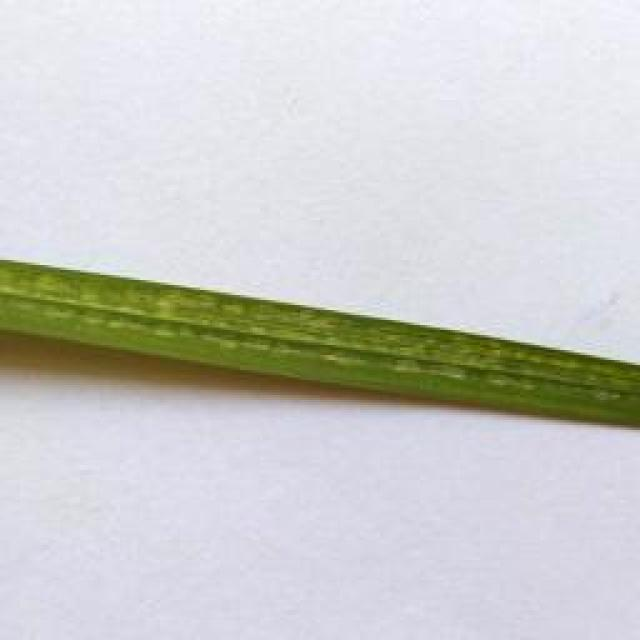Bacterial_Blight: (12, 249, 602, 426)
